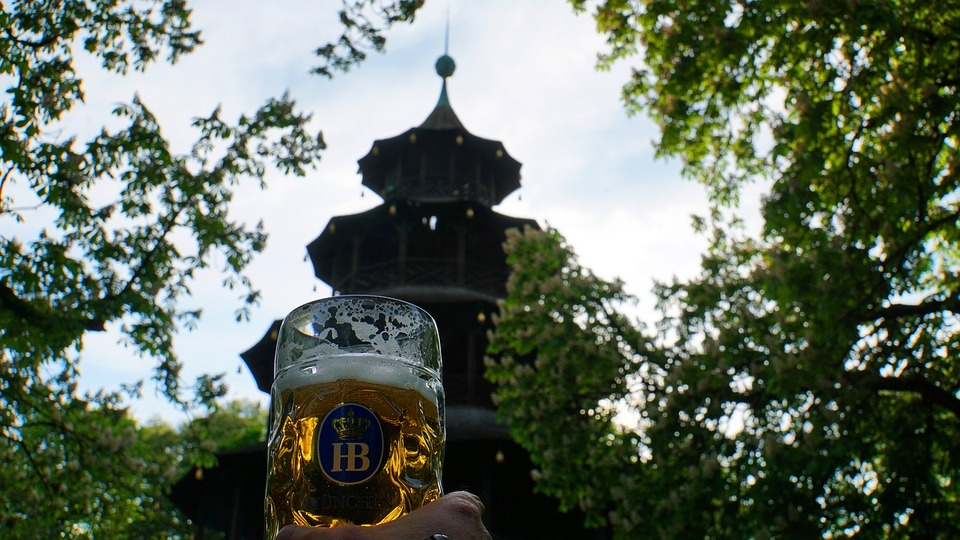glassBeer: (271, 300, 442, 527)
